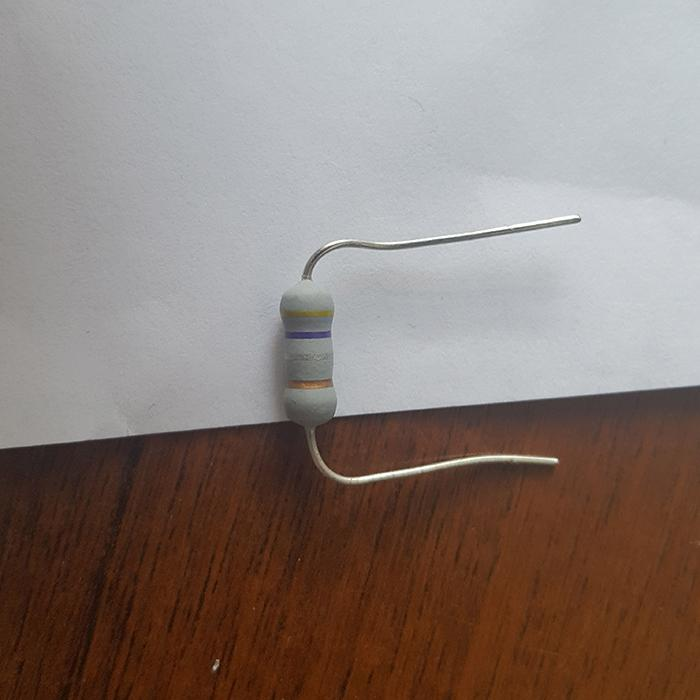resistor: (279, 280, 336, 428)
